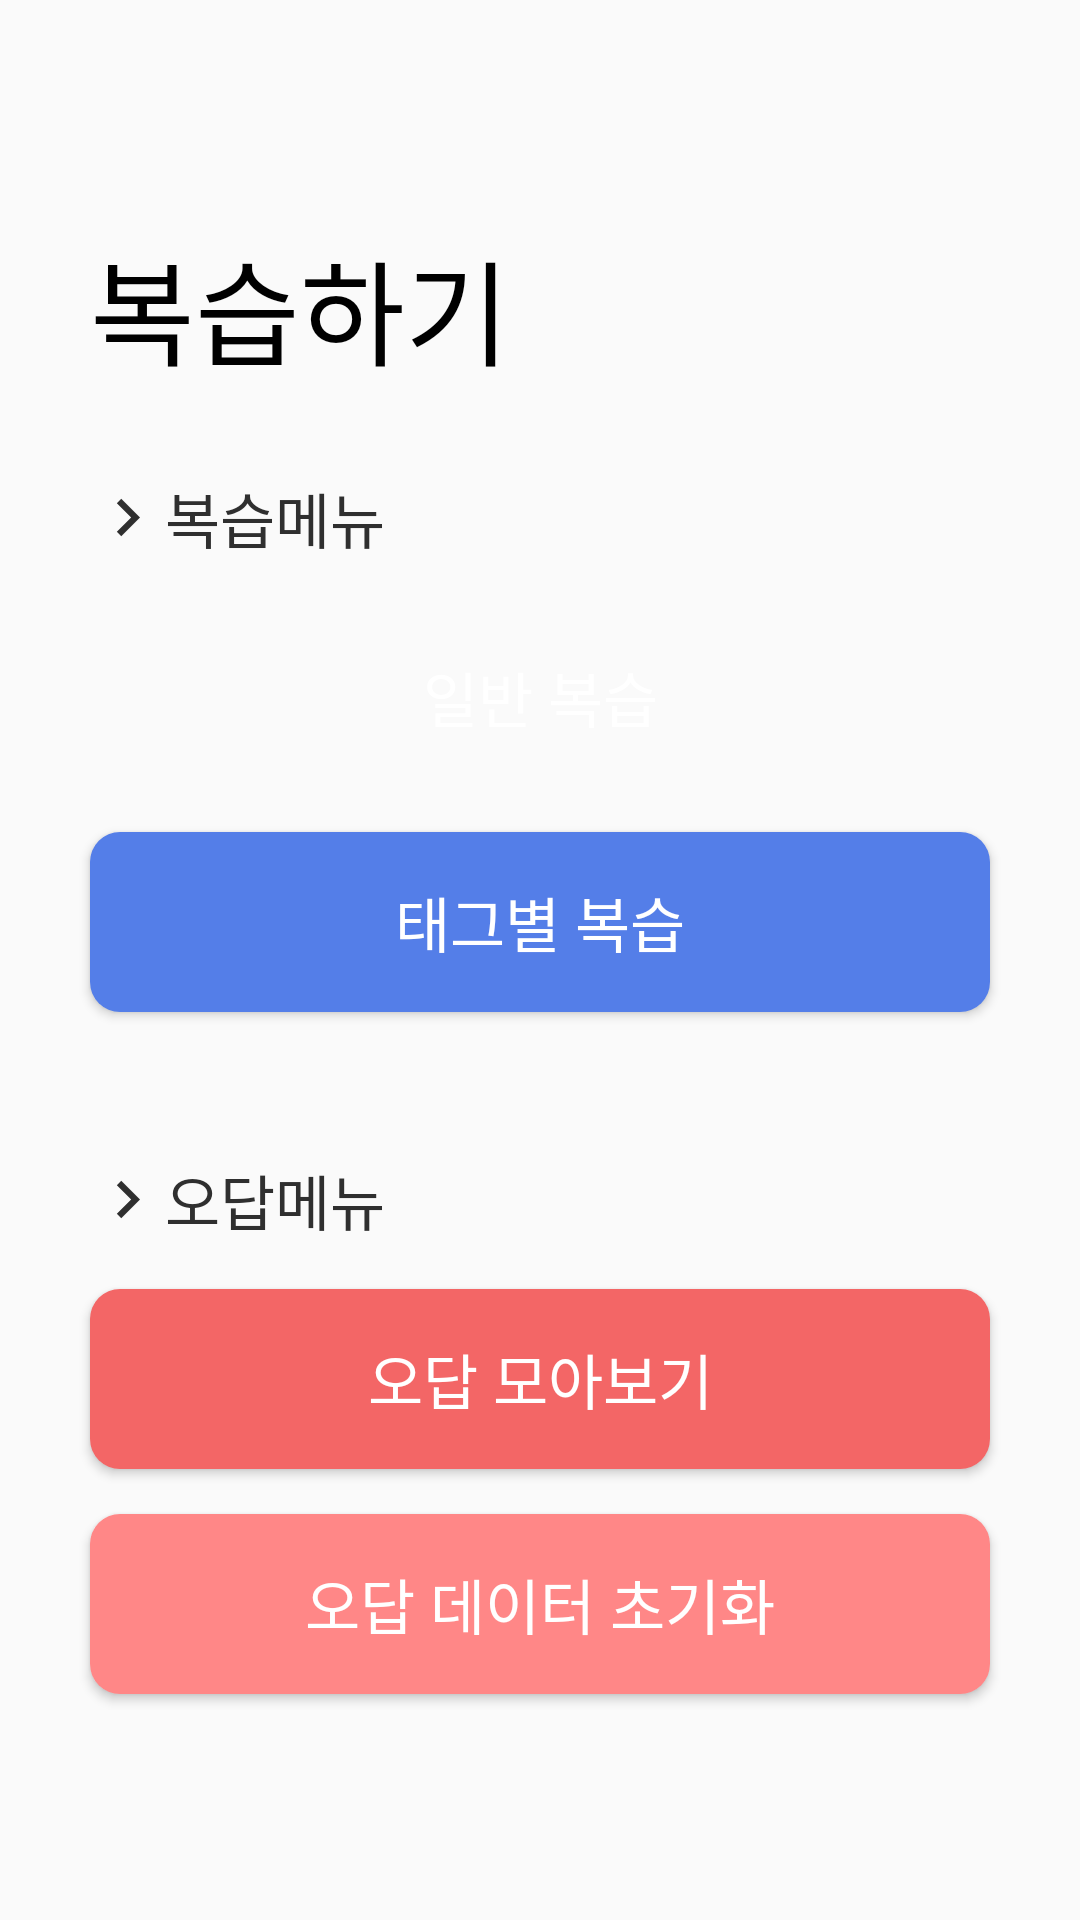

Named icons in this screenshot (1080 x 1920) and their centers, (x,y):
title symbol: (128,517), (128,1199)
